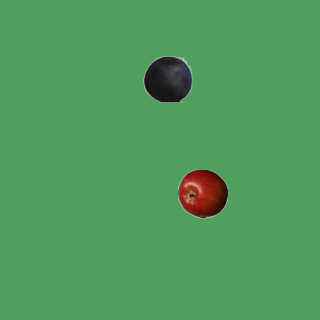Apple Braeburn: (177, 168, 227, 218)
Grape Blue: (142, 53, 192, 103)
